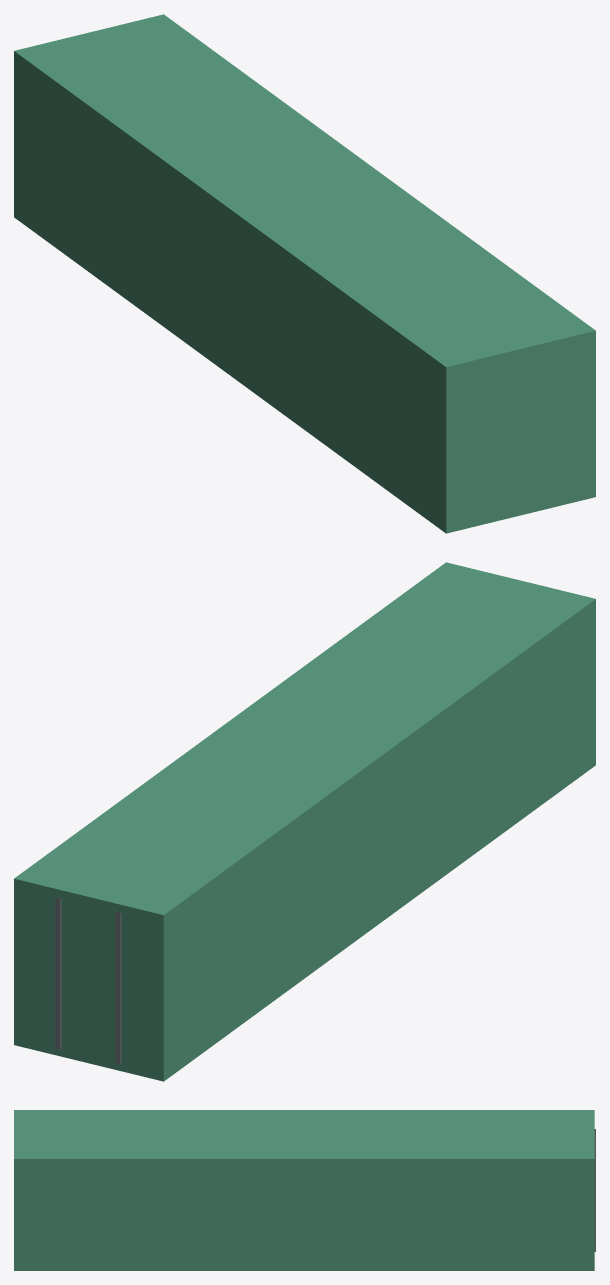
3 renders of one model, top to bottom at view 1: azimuth 30°, elevation 25°; view 2: azimuth 150°, elevation 25°; view 3: azimuth 270°, elevation 25°, orthographic. The views are drawn at different scales.
Visible parts, largest first — view 1: 412; view 2: 412; view 3: 412.
Part boxes in pixels (x1,y1,x2,y2): 412: (14,14,595,533); 412: (14,562,595,1081); 412: (14,1110,595,1270).
Bounding box in the file's own units: 2.44 × 2.59 × 12.22.
